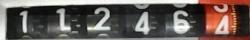digits: (211, 1, 231, 38), (134, 11, 156, 35), (172, 10, 193, 33), (92, 7, 111, 30), (55, 8, 71, 30), (18, 10, 28, 32)
